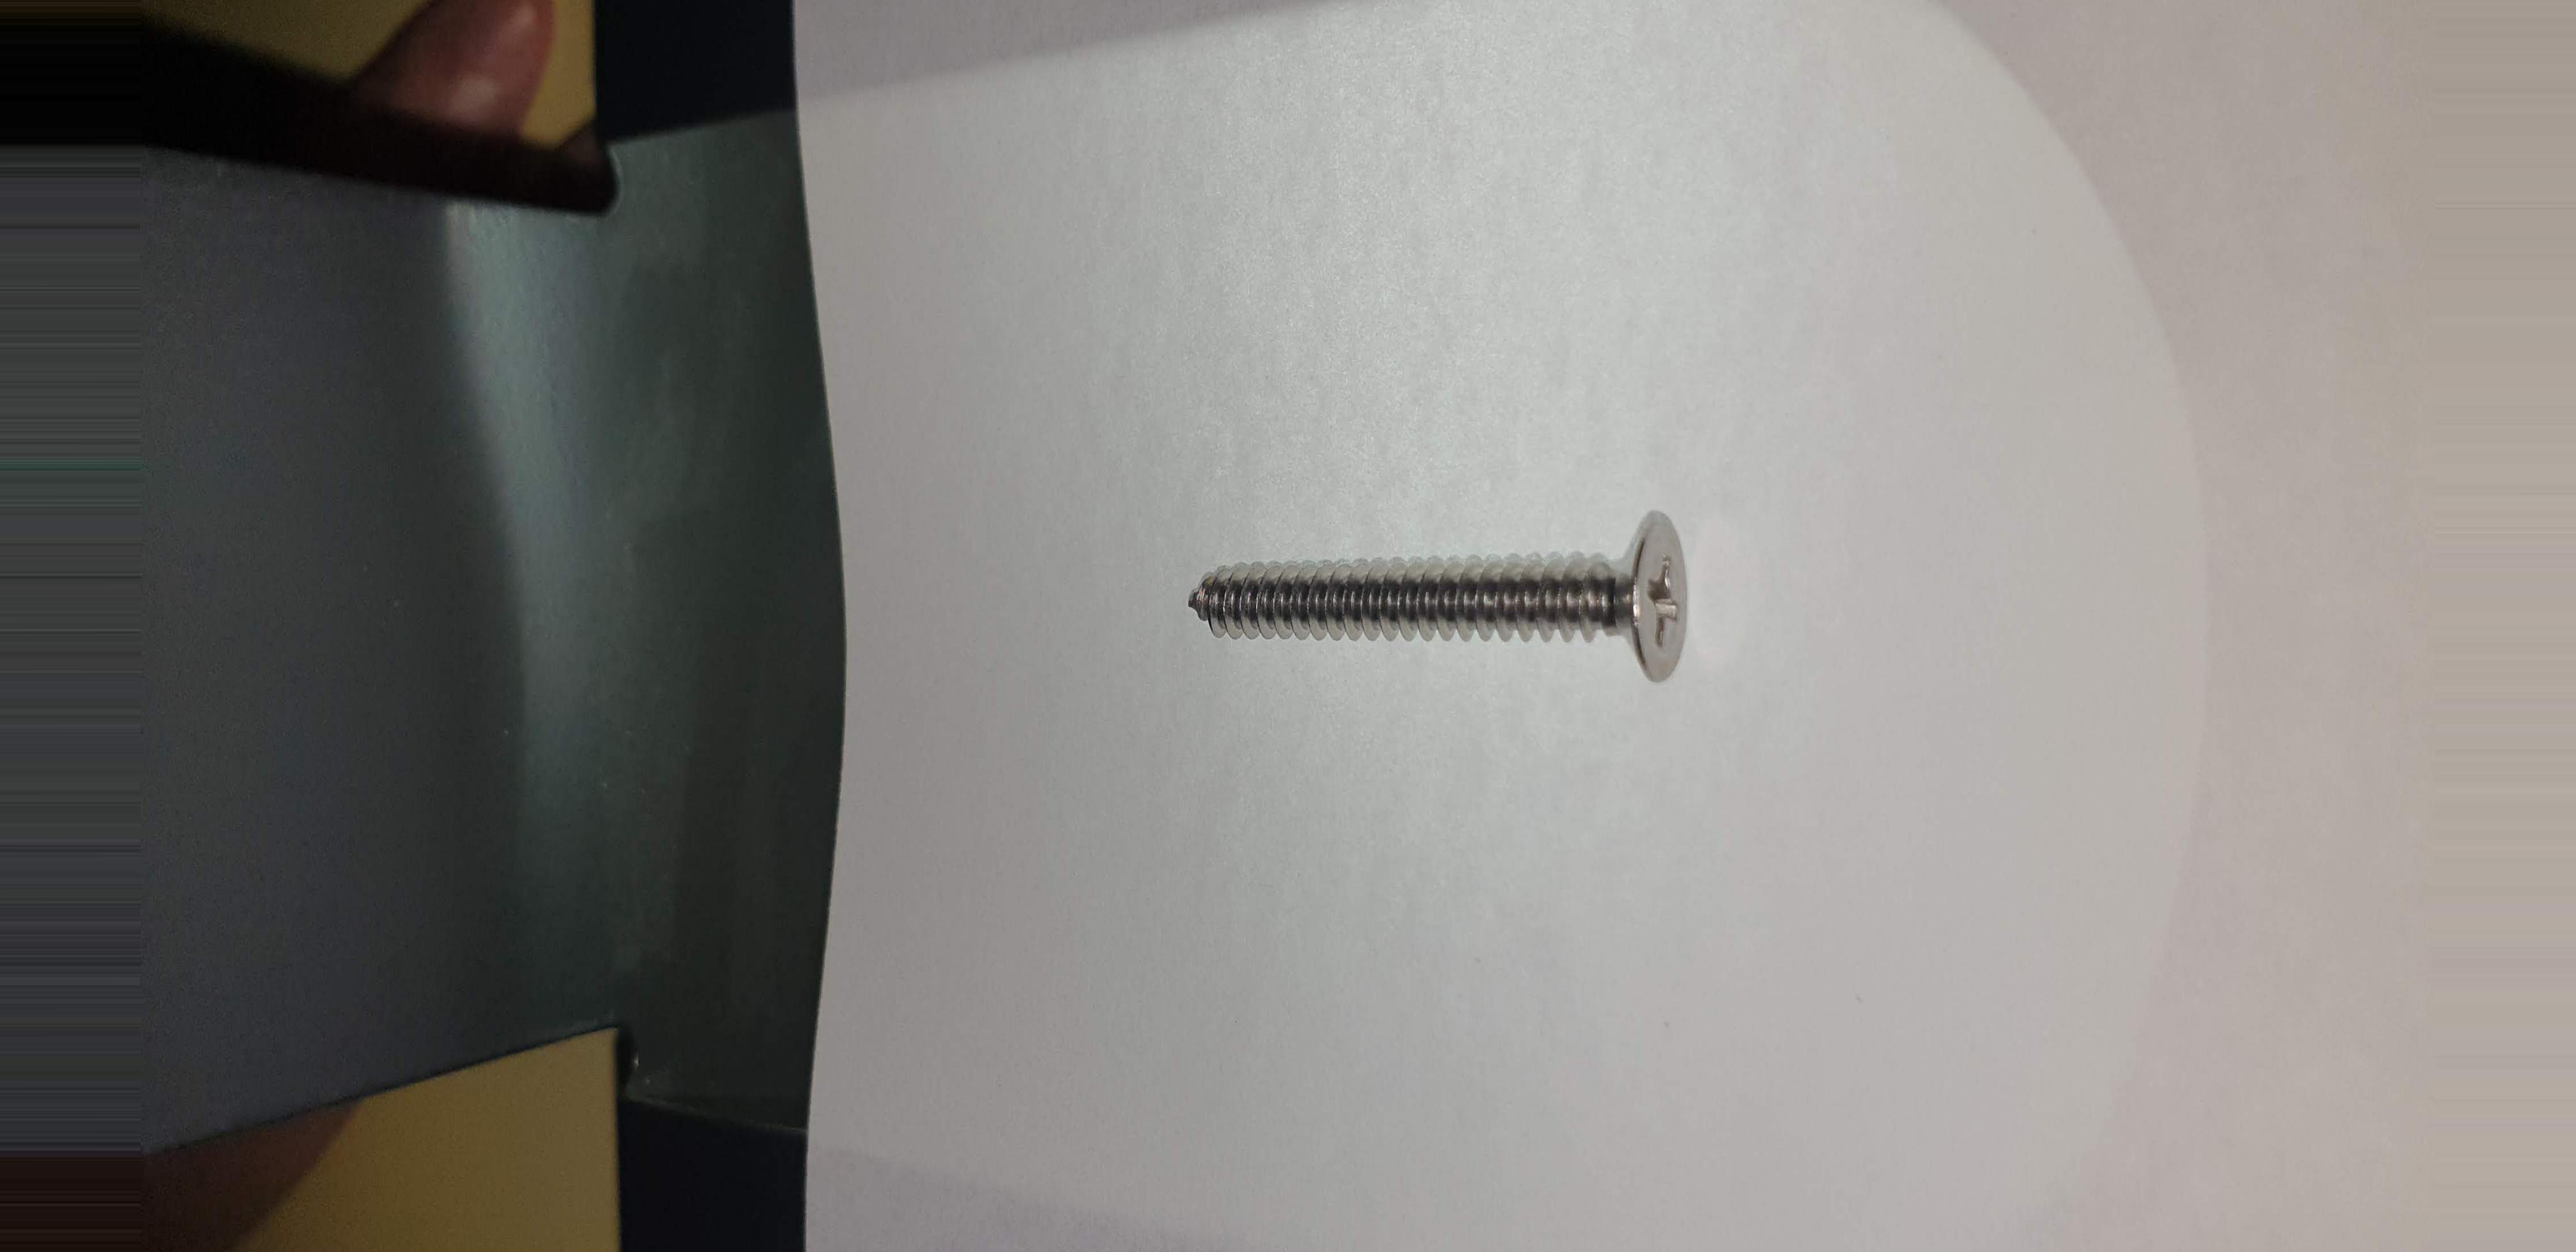fastener: (1132, 499, 1799, 705)
